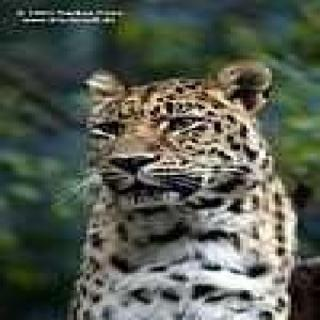Leopard: (64, 45, 303, 320)
